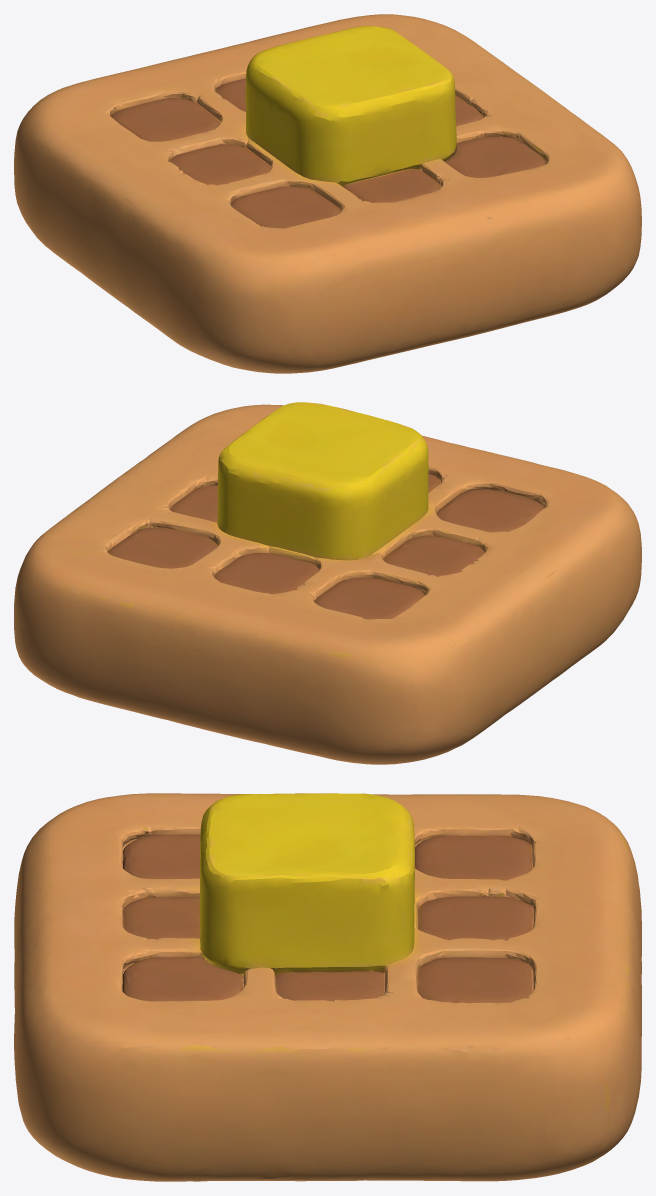
Rendered from waffle.glb.
The picture shows the model from 3 angles, top to bottom: view 1: azimuth 30°, elevation 25°; view 2: azimuth 150°, elevation 25°; view 3: azimuth 270°, elevation 25°; orthographic projection. The views are drawn at different scales.
Parts seen in each view (by area): view 1: Mesh; view 2: Mesh; view 3: Mesh.
Boxes of the visible parts, box(x1,y1,x2,y2) form: Mesh: box(14, 14, 641, 373); Mesh: box(14, 402, 641, 764); Mesh: box(14, 793, 641, 1181).
Bounding box in the file's own units: 0.9998 × 0.4208 × 1.
Materials: 1 (1 with a texture image).
